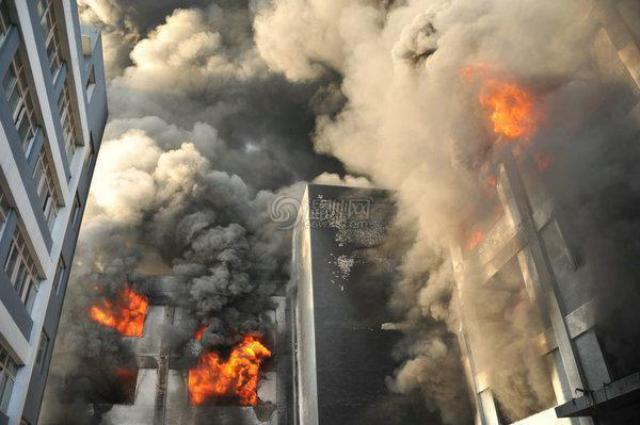fire: (90, 288, 146, 336), (483, 82, 531, 137), (223, 335, 260, 403), (188, 354, 220, 402)
